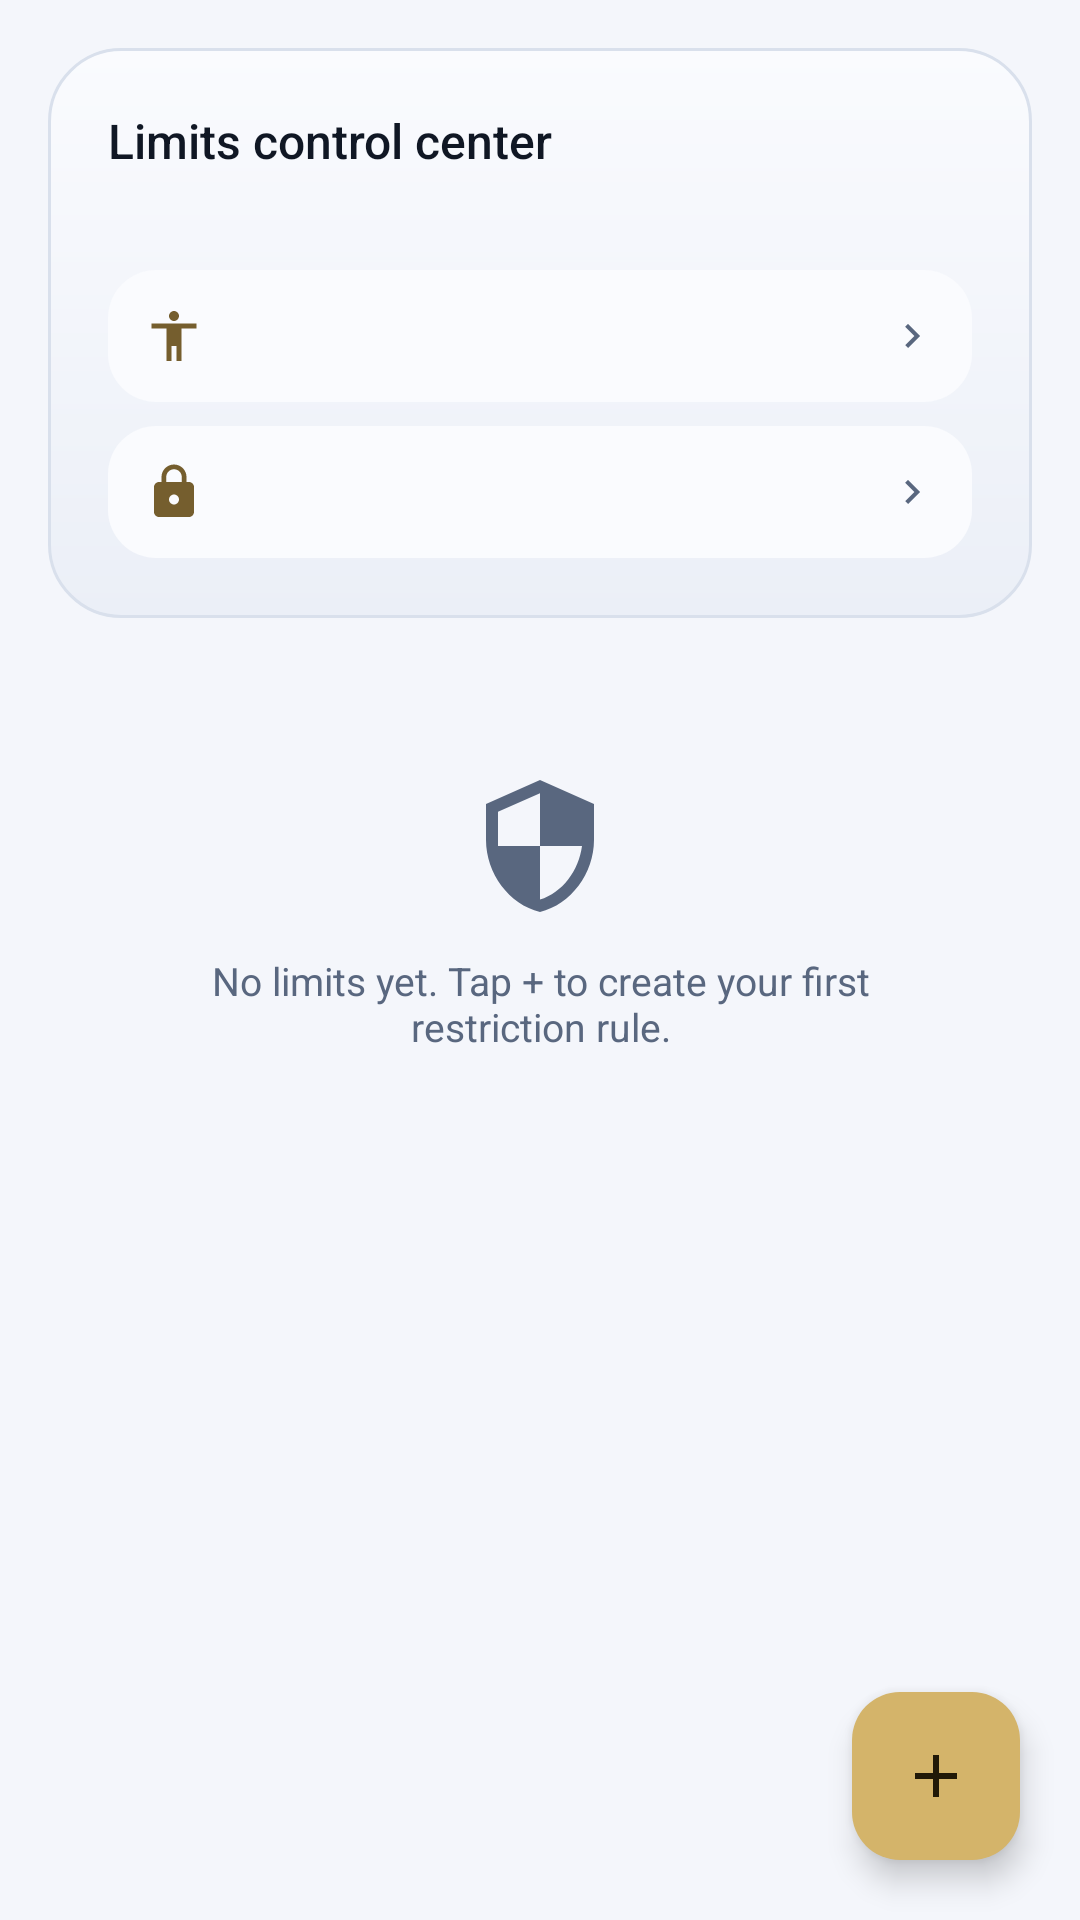

Where icons sit on this 1080*1920 app screen, as (x1, y1, x2, y2):
Accessibility service status: (151, 311, 197, 361)
Add a new limit: (852, 1692, 1020, 1860)
Display-over-apps permission: (154, 464, 194, 517)
